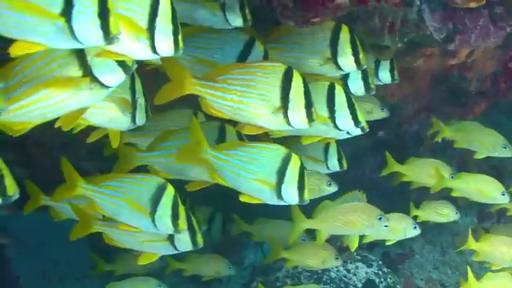Fish: (154, 58, 317, 133), (0, 48, 136, 135), (176, 119, 309, 204), (52, 158, 189, 233), (70, 204, 203, 264), (0, 0, 131, 57), (56, 73, 149, 147), (268, 77, 368, 143), (290, 191, 389, 250), (264, 21, 366, 78), (113, 128, 213, 182), (103, 0, 183, 59), (178, 26, 267, 77), (120, 108, 206, 149), (428, 117, 511, 159), (23, 180, 103, 220), (380, 152, 455, 188), (431, 172, 510, 203), (280, 137, 347, 173), (264, 241, 342, 270), (456, 229, 511, 269), (173, 0, 251, 28), (232, 215, 292, 247), (362, 213, 420, 245), (186, 205, 231, 246), (166, 254, 236, 280), (92, 252, 164, 275), (410, 200, 460, 223), (460, 266, 511, 287), (340, 68, 375, 96), (367, 55, 399, 84), (307, 170, 338, 199), (0, 158, 19, 205), (354, 96, 389, 120), (106, 276, 167, 287), (445, 0, 486, 7), (489, 224, 511, 237), (490, 203, 511, 215), (283, 284, 321, 287)
